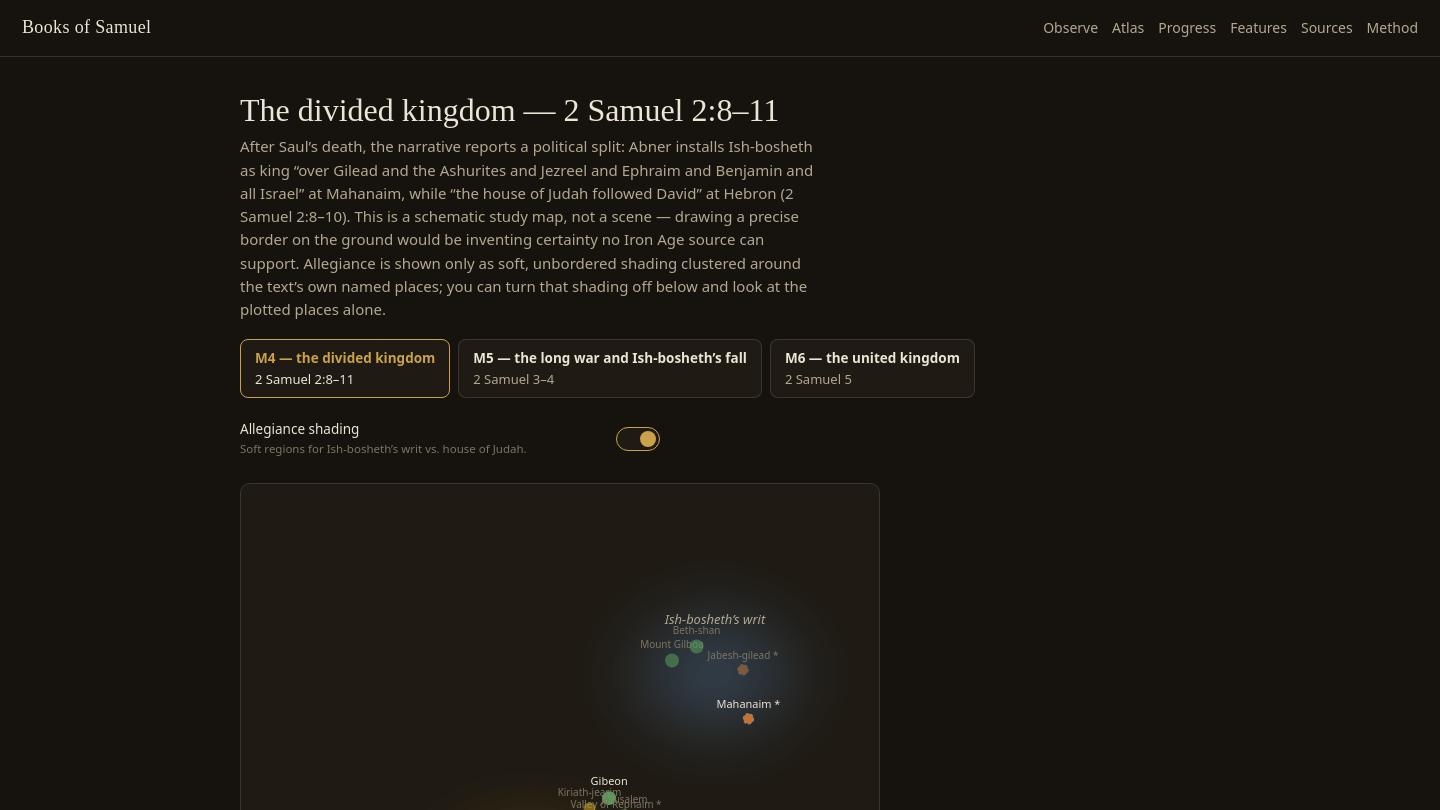
Test case: AtlasPage M6 phase (2 Samuel 5, the united kingdom) › switches into the M6 phase and shows the merge/capital-move section
Click the tab with test id "atlas-phase-m6".
click(872, 369)  # box [770,339,975,398]
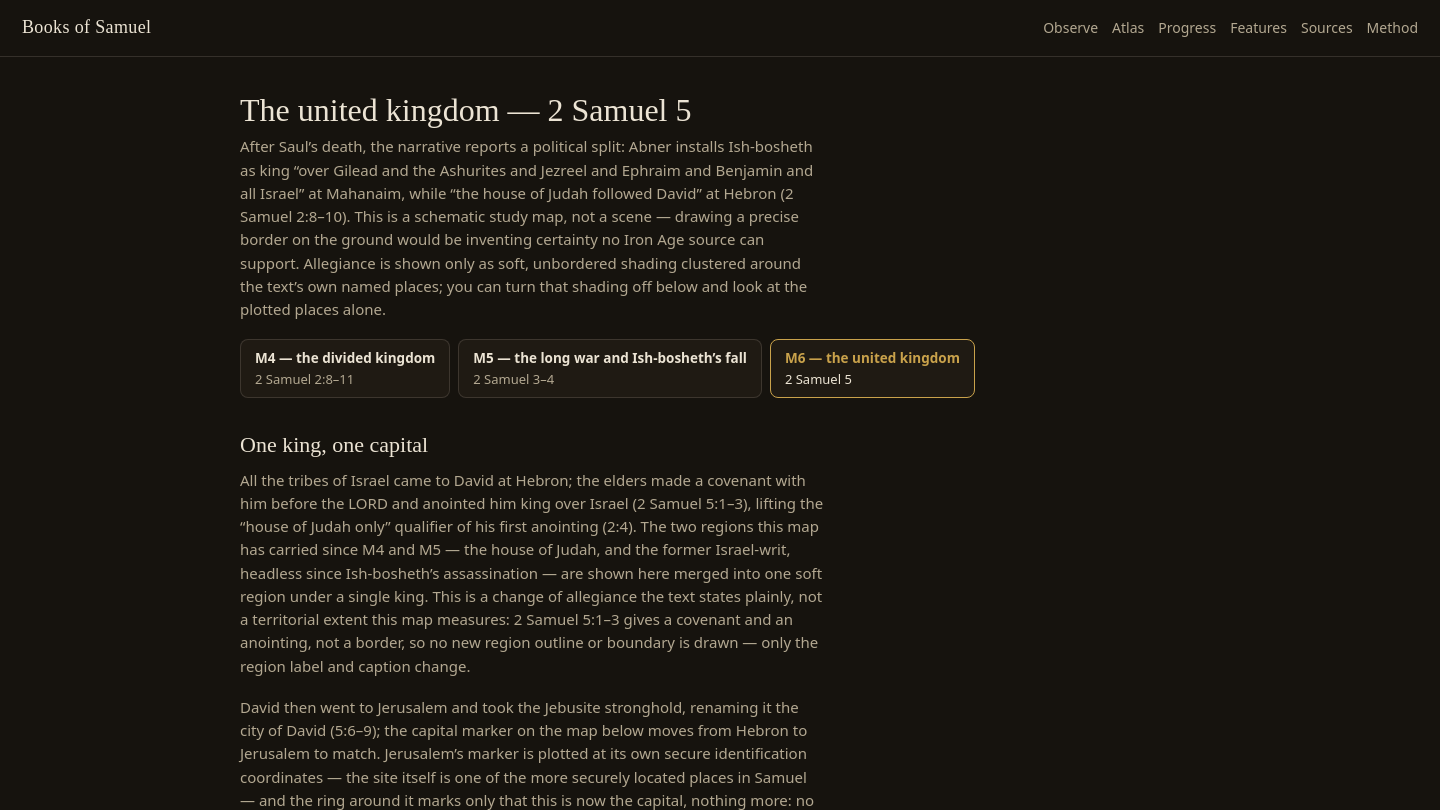
Expected: the heading "One king, one capital" is shown, [240,432,428,457]
